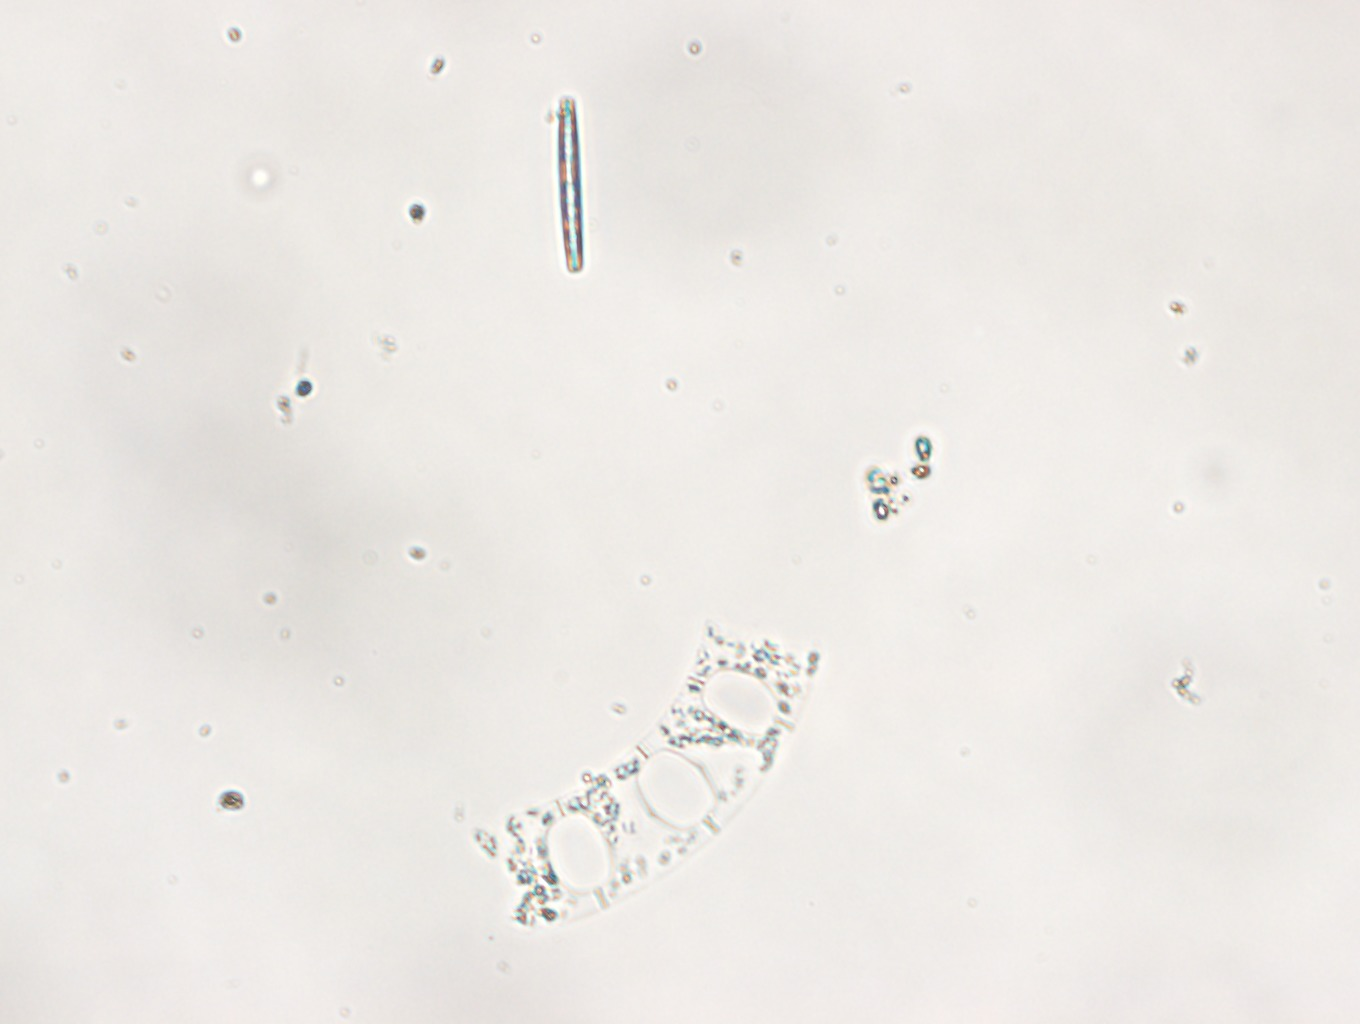eucampia: (474, 622, 821, 928)
thalassionema nitzschioides: (556, 96, 587, 273)
